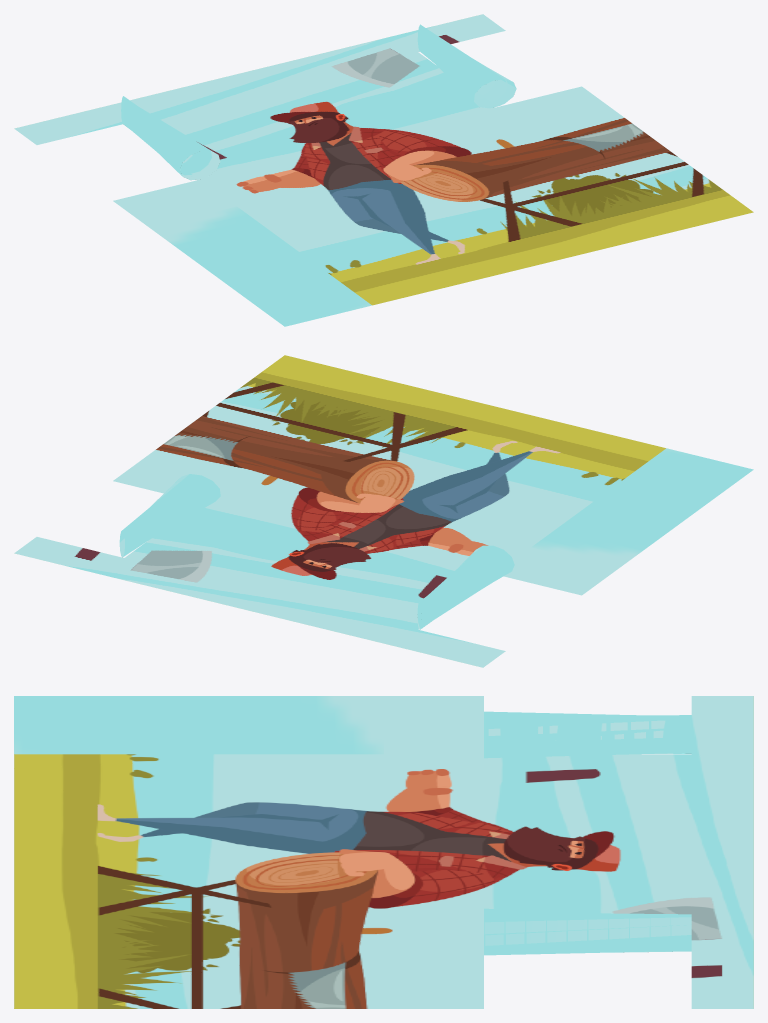
Rendered from Level 182.fbx.
3 renders of one model, top to bottom at view 1: azimuth 30°, elevation 25°; view 2: azimuth 150°, elevation 25°; view 3: azimuth 270°, elevation 25°, orthographic. The views are drawn at different scales.
Parts seen in each view (by area): view 1: Mesh, Blend_02, Blend_01; view 2: Mesh, Blend_02, Blend_01; view 3: Mesh, Blend_01, Blend_02.
Boxes of the visible parts, x1=… form: Mesh: x1=14, y1=14, x2=753, y2=326; Blend_02: x1=417, y1=24, x2=516, y2=108; Blend_01: x1=121, y1=96, x2=220, y2=180; Mesh: x1=14, y1=355, x2=753, y2=667; Blend_02: x1=119, y1=474, x2=220, y2=557; Blend_01: x1=417, y1=545, x2=514, y2=629; Mesh: x1=14, y1=696, x2=753, y2=1008; Blend_01: x1=484, y1=711, x2=691, y2=758; Blend_02: x1=484, y1=908, x2=691, y2=955.
Bounding box in the file's own units: 2400 × 139 × 2400.
